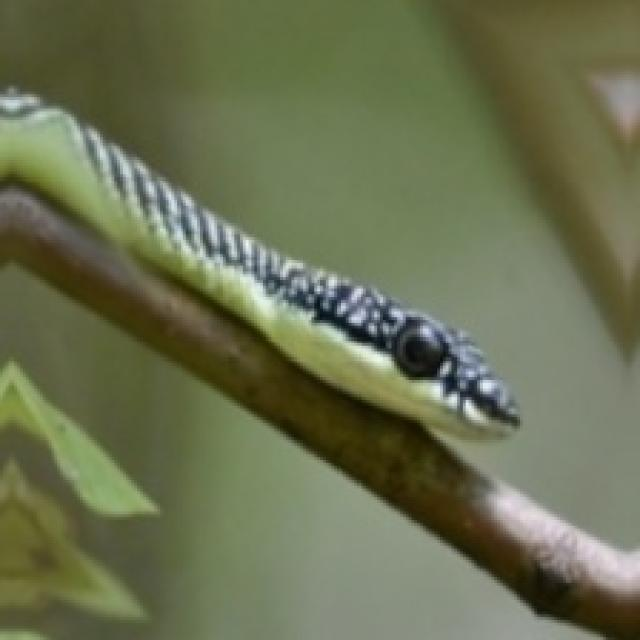paradise tree snake: (0, 91, 517, 434)
